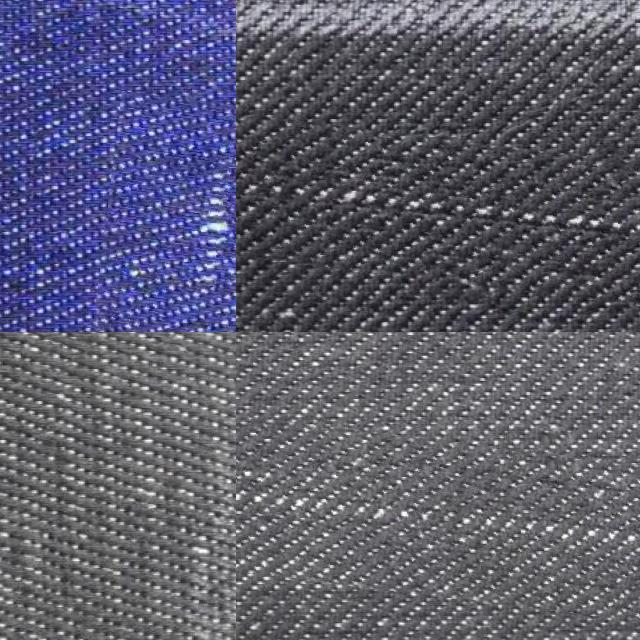stains: (236, 411, 640, 604), (236, 126, 640, 306), (94, 97, 236, 332)
